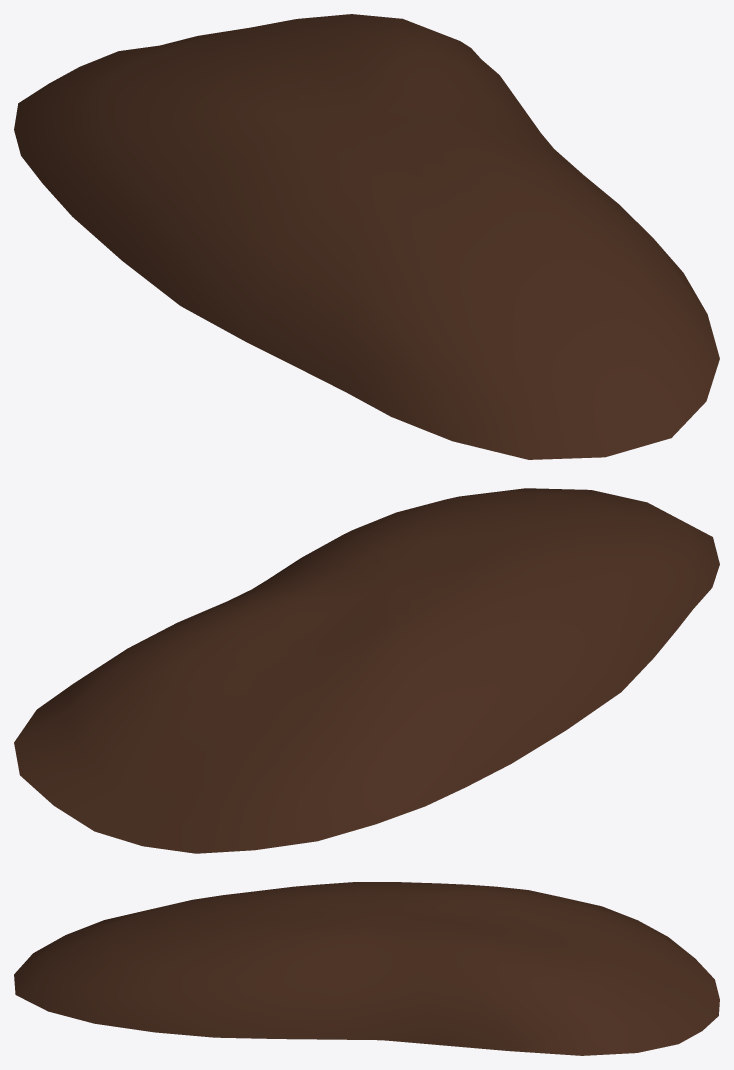
Rendered from gravedirt1.fbx.
3 views of the same model, one above another, from view 1: azimuth 30°, elevation 25°; view 2: azimuth 150°, elevation 25°; view 3: azimuth 270°, elevation 25° (orthographic). The views are drawn at different scales.
Parts seen in each view (by area): view 1: Grave Ground 2; view 2: Grave Ground 2; view 3: Grave Ground 2.
Part boxes in pixels (x1,y1,x2,y2): Grave Ground 2: [14, 14, 719, 459]; Grave Ground 2: [14, 488, 719, 853]; Grave Ground 2: [14, 882, 719, 1055].
Bounding box in the file's own units: 345 × 83.91 × 666.
